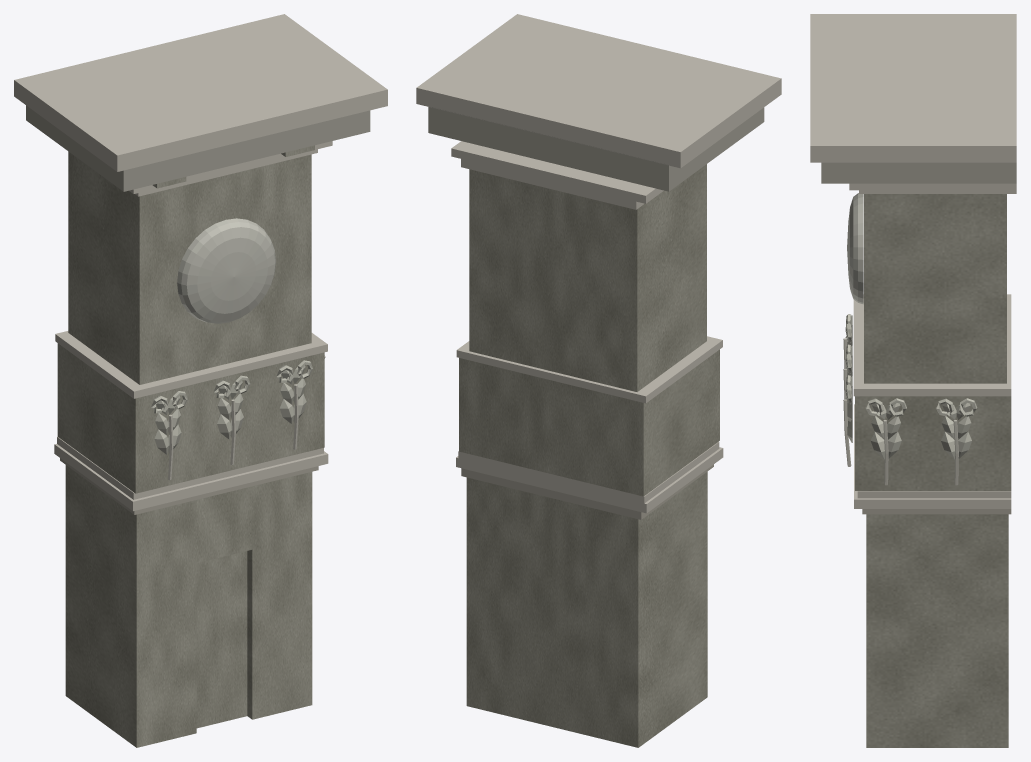
The model's file is qingyunli-no22-leaf-capital-far.glb.
3 renders of one model, left to right at view 1: azimuth 30°, elevation 25°; view 2: azimuth 150°, elevation 25°; view 3: azimuth 270°, elevation 25°, orthographic. The views are drawn at different scales.
Parts seen in each view (by area): view 1: 青云里襄阳北路22弄入口叶饰石柱头与圆盘; view 2: 青云里襄阳北路22弄入口叶饰石柱头与圆盘; view 3: 青云里襄阳北路22弄入口叶饰石柱头与圆盘.
Part boxes in pixels (box(x1,y1,x2,y2)): 青云里襄阳北路22弄入口叶饰石柱头与圆盘: box(14, 14, 387, 747); 青云里襄阳北路22弄入口叶饰石柱头与圆盘: box(416, 14, 781, 747); 青云里襄阳北路22弄入口叶饰石柱头与圆盘: box(810, 14, 1016, 747).
Bounding box in the file's own units: 1.13 × 2.49 × 0.747.
Materials: 7 (1 with a texture image).
